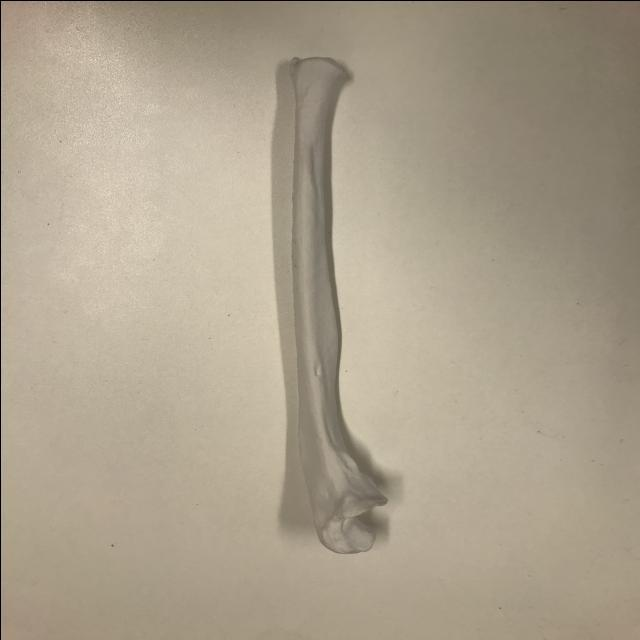bone: (257, 51, 388, 558)
